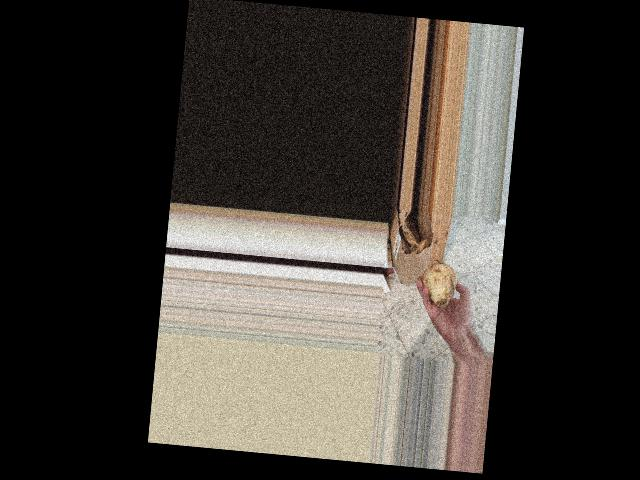onion: (417, 259, 461, 312)
